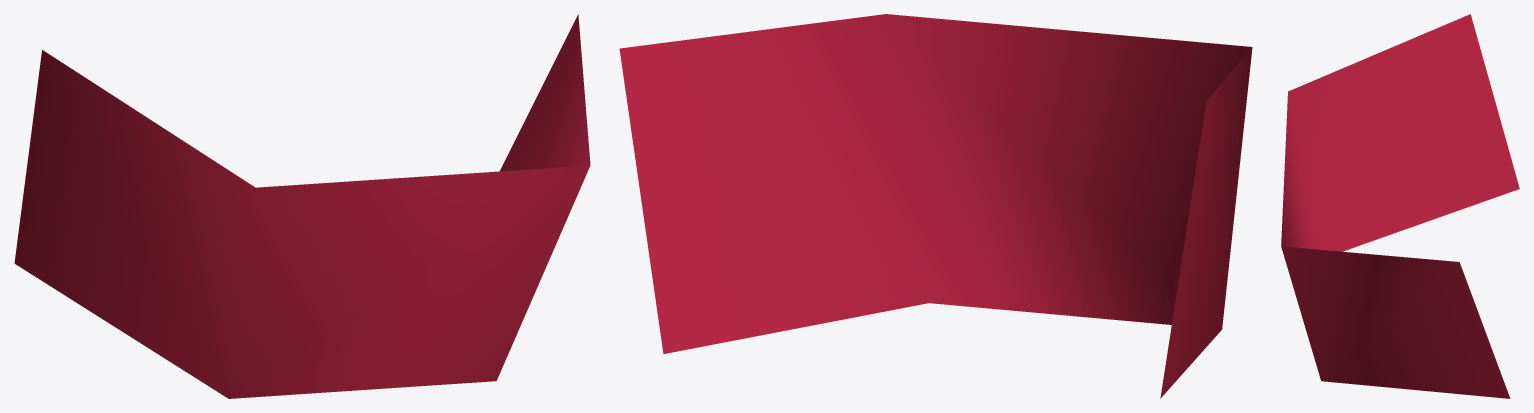
The picture shows the model from 3 angles, left to right: view 1: azimuth 30°, elevation 25°; view 2: azimuth 150°, elevation 25°; view 3: azimuth 270°, elevation 25°; orthographic projection. The views are drawn at different scales.
Visible parts, largest first — view 1: ef_434; view 2: ef_434; view 3: ef_434.
Boxes of the visible parts, x1,y1,x2,y2 form: ef_434: (14,14,590,398); ef_434: (619,14,1252,398); ef_434: (1281,14,1519,398).
Size of the model in its own units: 0.8456 by 0.5209 by 0.4609.
1 material, 1 textured.
